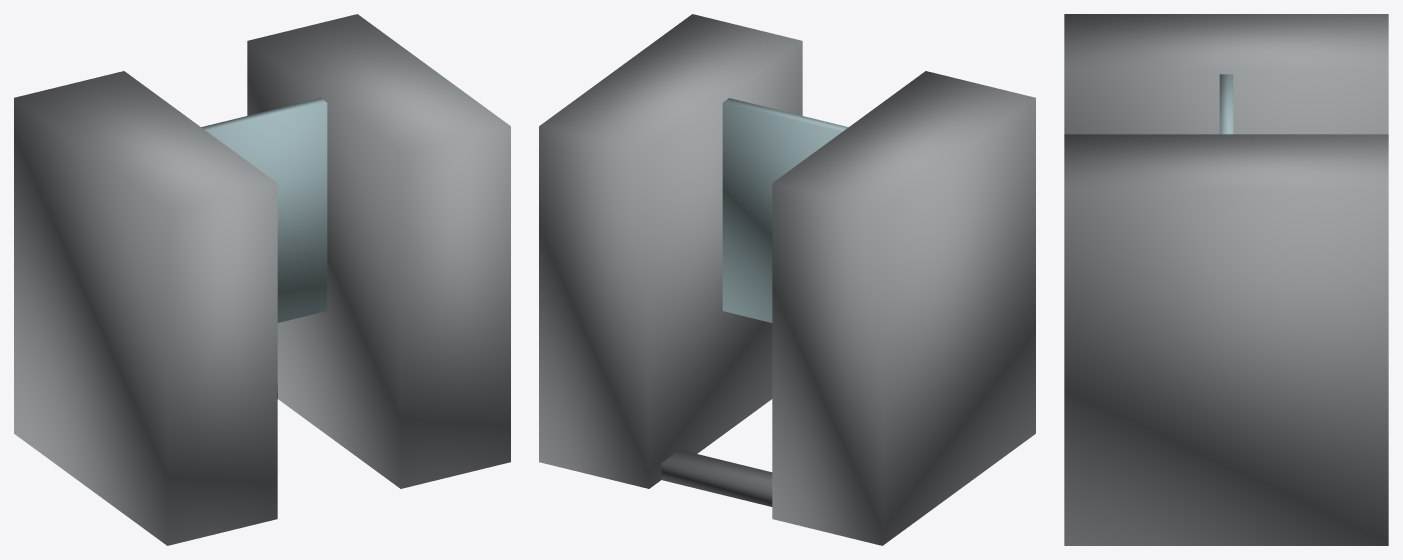
File: fare_gate__reinforced.glb
The picture shows the model from 3 angles, left to right: view 1: azimuth 30°, elevation 25°; view 2: azimuth 150°, elevation 25°; view 3: azimuth 270°, elevation 25°; orthographic projection. The views are drawn at different scales.
Parts seen in each view (by area): view 1: world; view 2: world; view 3: world.
Part boxes in pixels (x1,y1,x2,y2): world: [14, 14, 510, 545]; world: [539, 14, 1035, 545]; world: [1064, 14, 1388, 545].
Bounding box in the file's own units: 1.09 × 1.02 × 0.8446.
